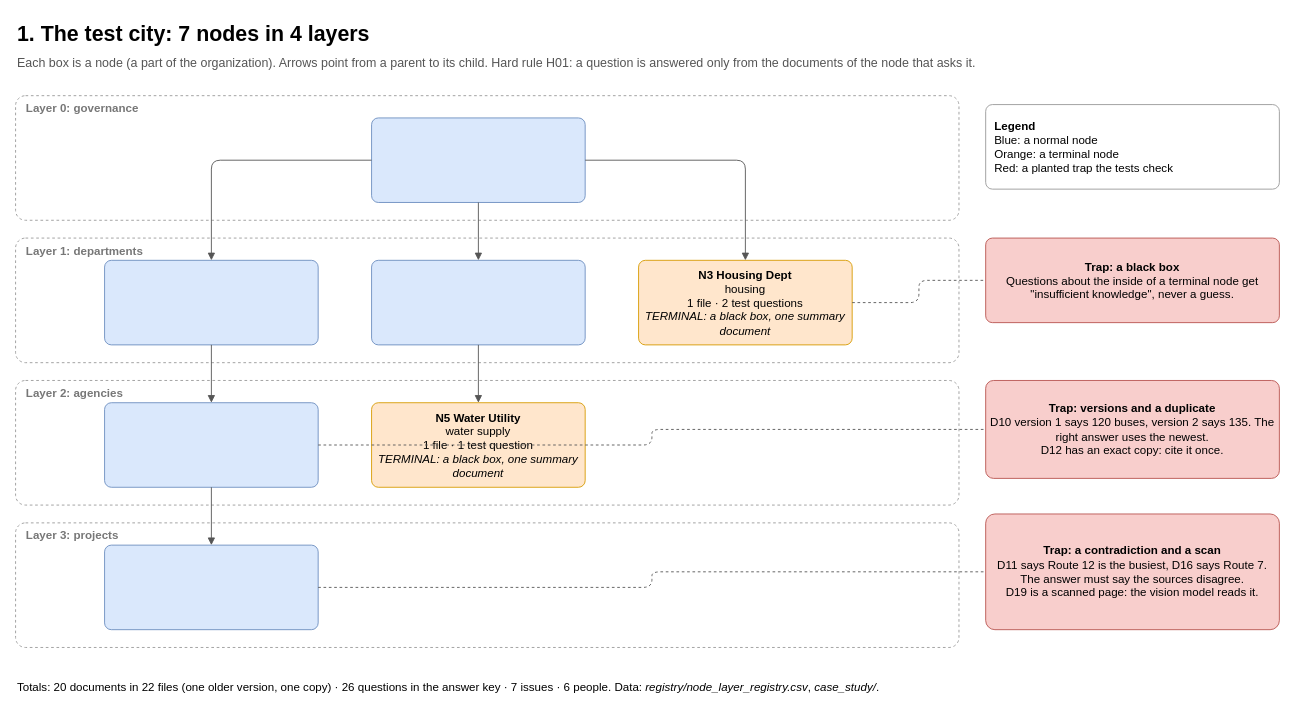
This 1295x724 diagram has some shape labels left out. The centre of each missing label's shape, as x and y in pixels:
"N0 City Council governance 3 files · 3 test questions" goes at pixel 478 159.
"N1 Transport Dept transport 3 files · 2 test questions" goes at pixel 211 302.
"N2 Water Dept water 2 files · 1 test question" goes at pixel 478 302.
"N4 Transit Agency public transit 5 files · 5 test questions" goes at pixel 211 444.
"N6 Bus Network Project bus routes 7 files · 12 test questions" goes at pixel 211 587.
